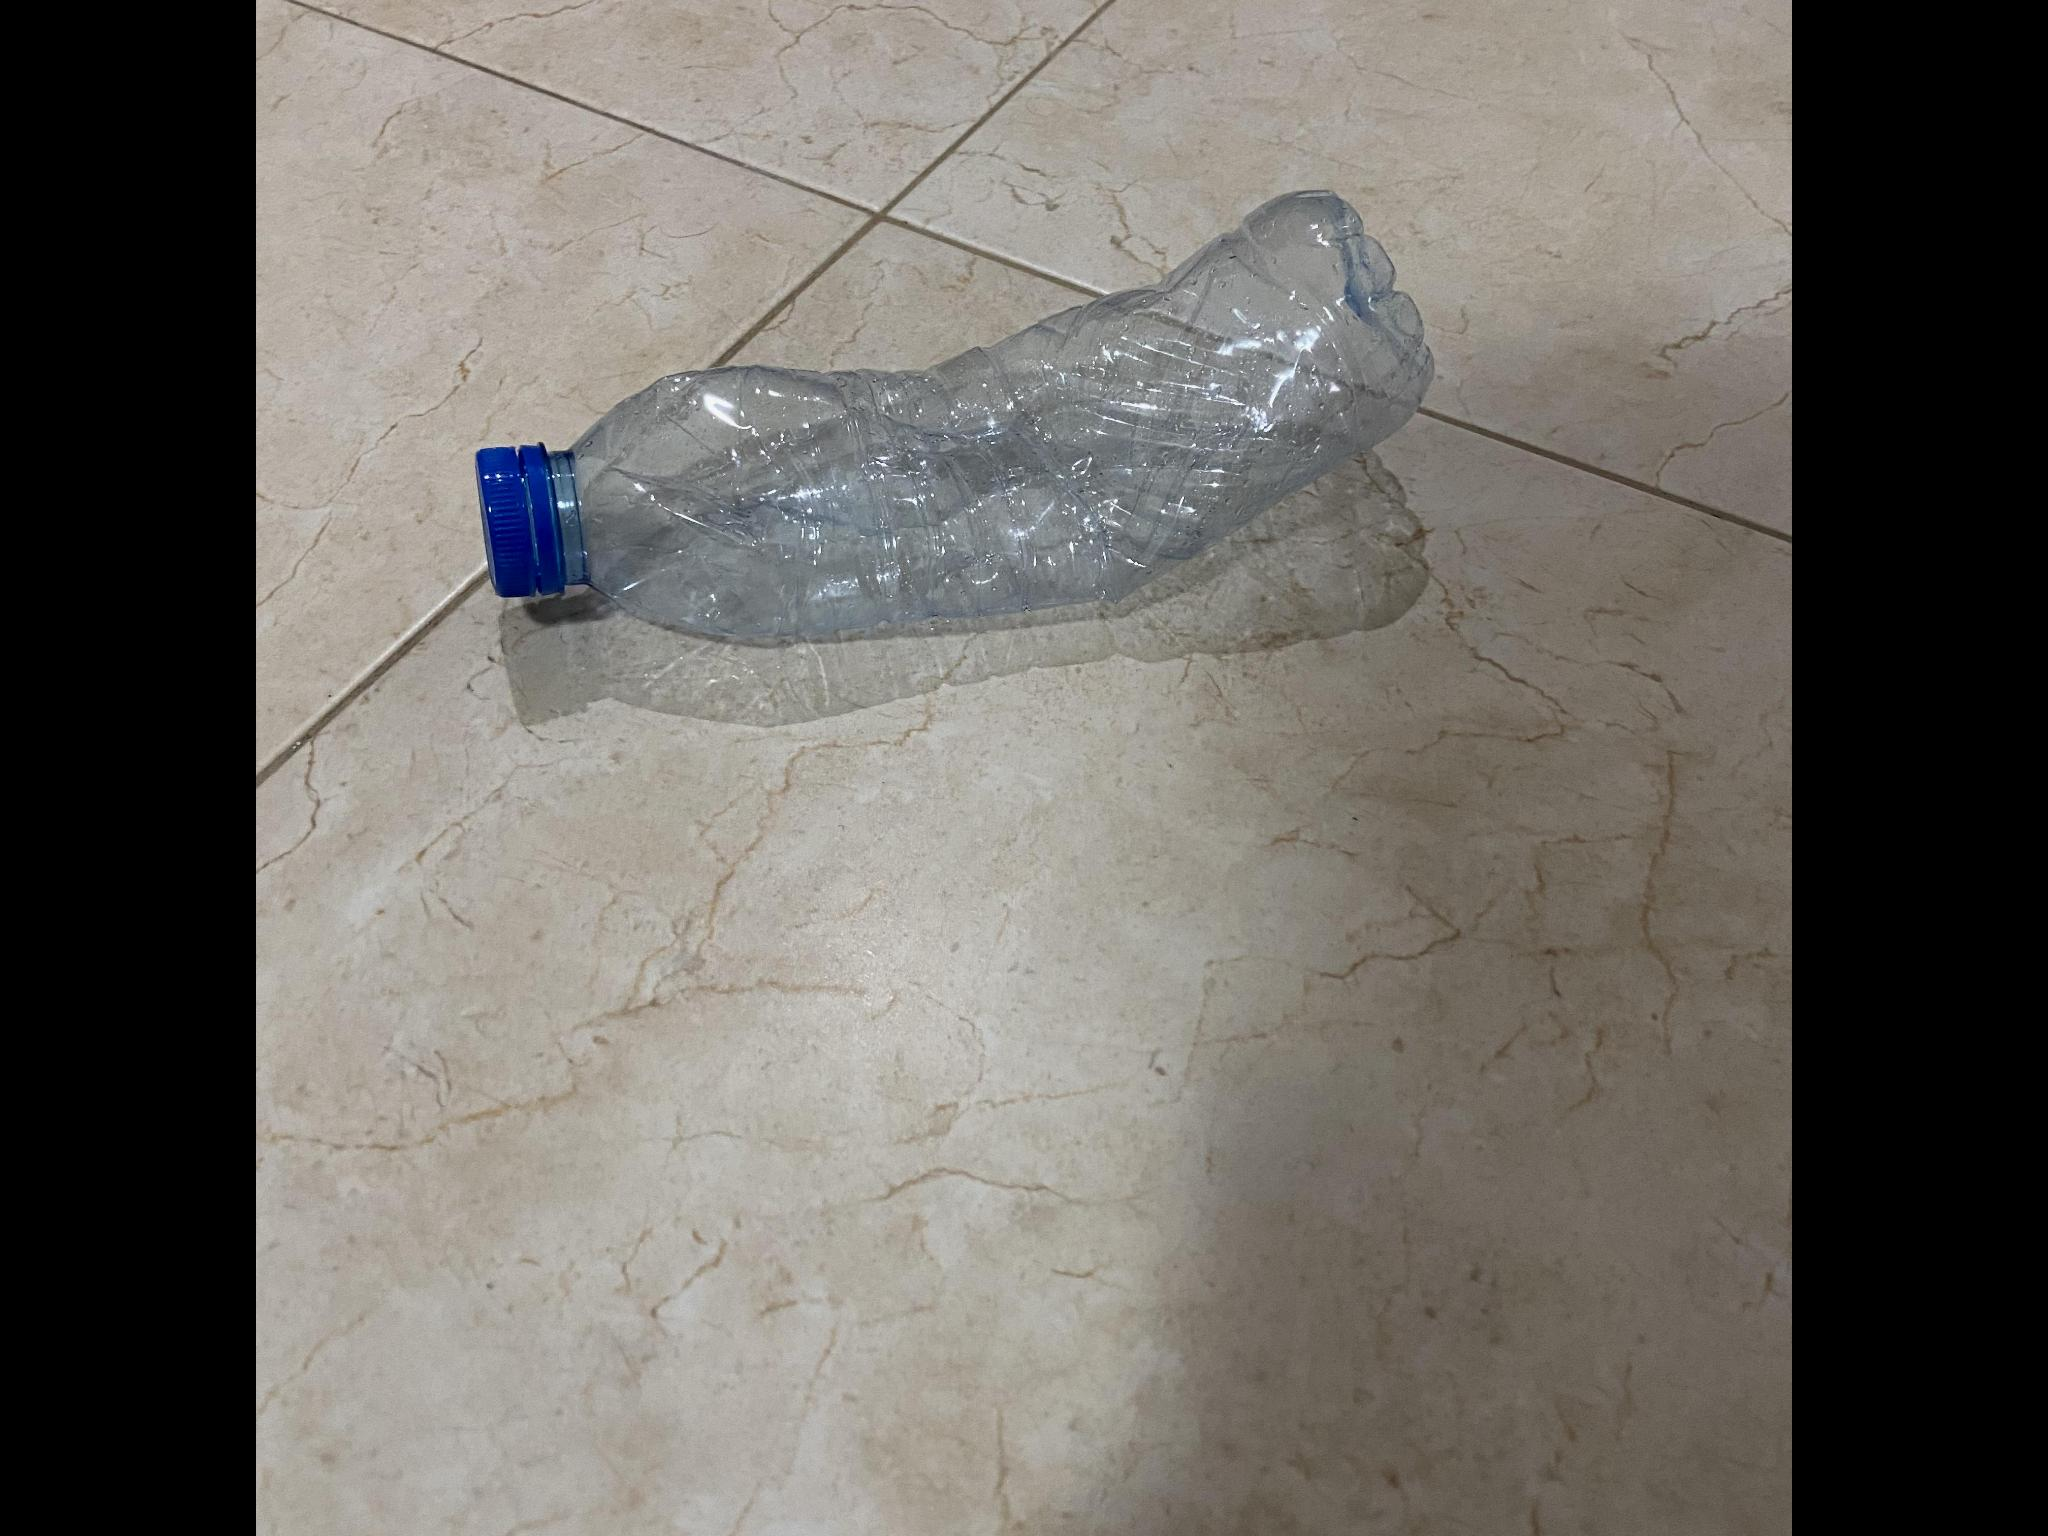bottle: (473, 180, 1451, 662)
